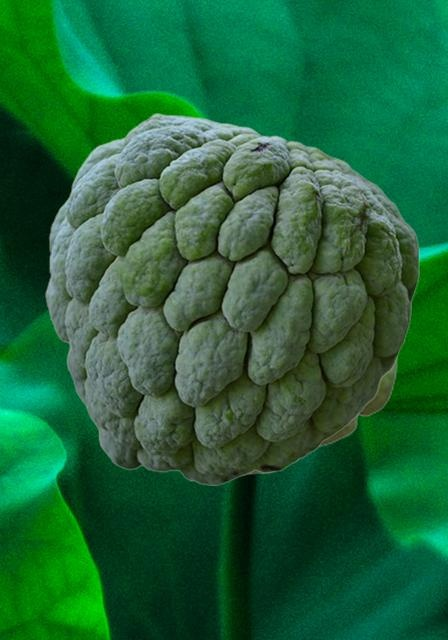atis: (45, 113, 419, 484), (250, 354, 400, 474)
